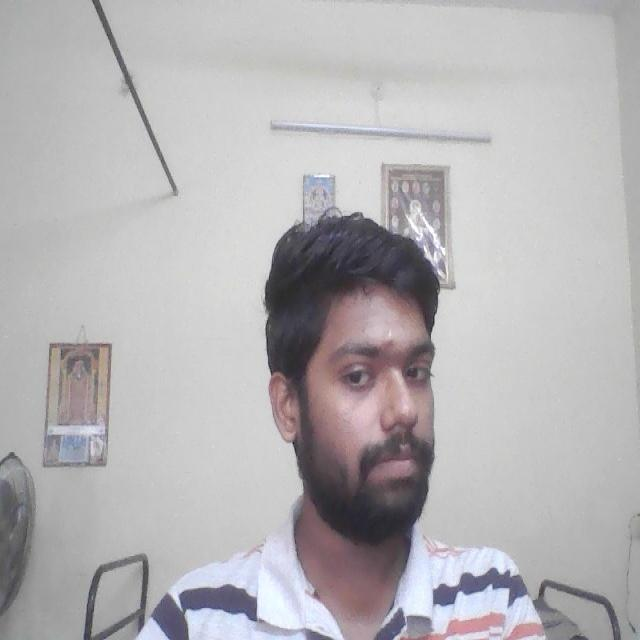Focused: (286, 295, 442, 512)
